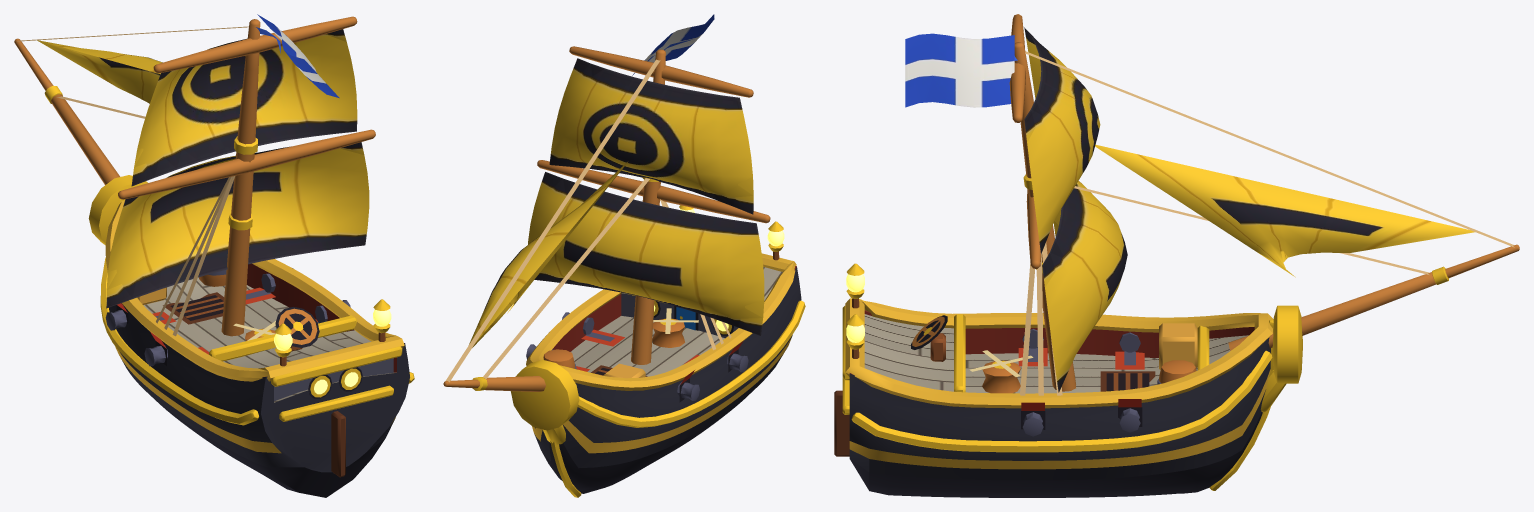
File: enemy_sloop.glb
3 views of the same model, side by side, from view 1: azimuth 30°, elevation 25°; view 2: azimuth 150°, elevation 25°; view 3: azimuth 270°, elevation 25° (orthographic). The views are drawn at different scales.
Parts seen in each view (by area): view 1: Hull, Sail0_0, Sail0_1, Rigging, Jib, Guns0, Flag; view 2: Hull, Sail0_0, Sail0_1, Rigging, Jib, Guns0, Flag; view 3: Hull, Jib, Rigging, Sail0_0, Sail0_1, Flag, Guns0.
Boxes of the visible parts, x1,y1,x2,y2 form: Hull: [88, 175, 414, 497]; Sail0_0: [106, 142, 369, 308]; Sail0_1: [131, 29, 357, 186]; Rigging: [14, 16, 375, 336]; Jib: [37, 40, 162, 103]; Guns0: [105, 268, 350, 366]; Flag: [257, 14, 339, 98]; Hull: [510, 205, 805, 497]; Sail0_0: [528, 172, 764, 335]; Sail0_1: [549, 58, 753, 214]; Rigging: [443, 39, 770, 391]; Jib: [469, 161, 628, 347]; Guns0: [526, 312, 748, 400]; Flag: [632, 14, 714, 75]; Hull: [834, 263, 1302, 497]; Jib: [1095, 144, 1474, 277]; Rigging: [1009, 14, 1519, 395]; Sail0_0: [1042, 181, 1127, 392]; Sail0_1: [1024, 27, 1100, 254]; Flag: [905, 33, 1014, 107]; Guns0: [1018, 329, 1144, 436].
Bounding box in the file's own units: 1.35 × 2.16 × 2.93.
9 materials, 4 textured.
